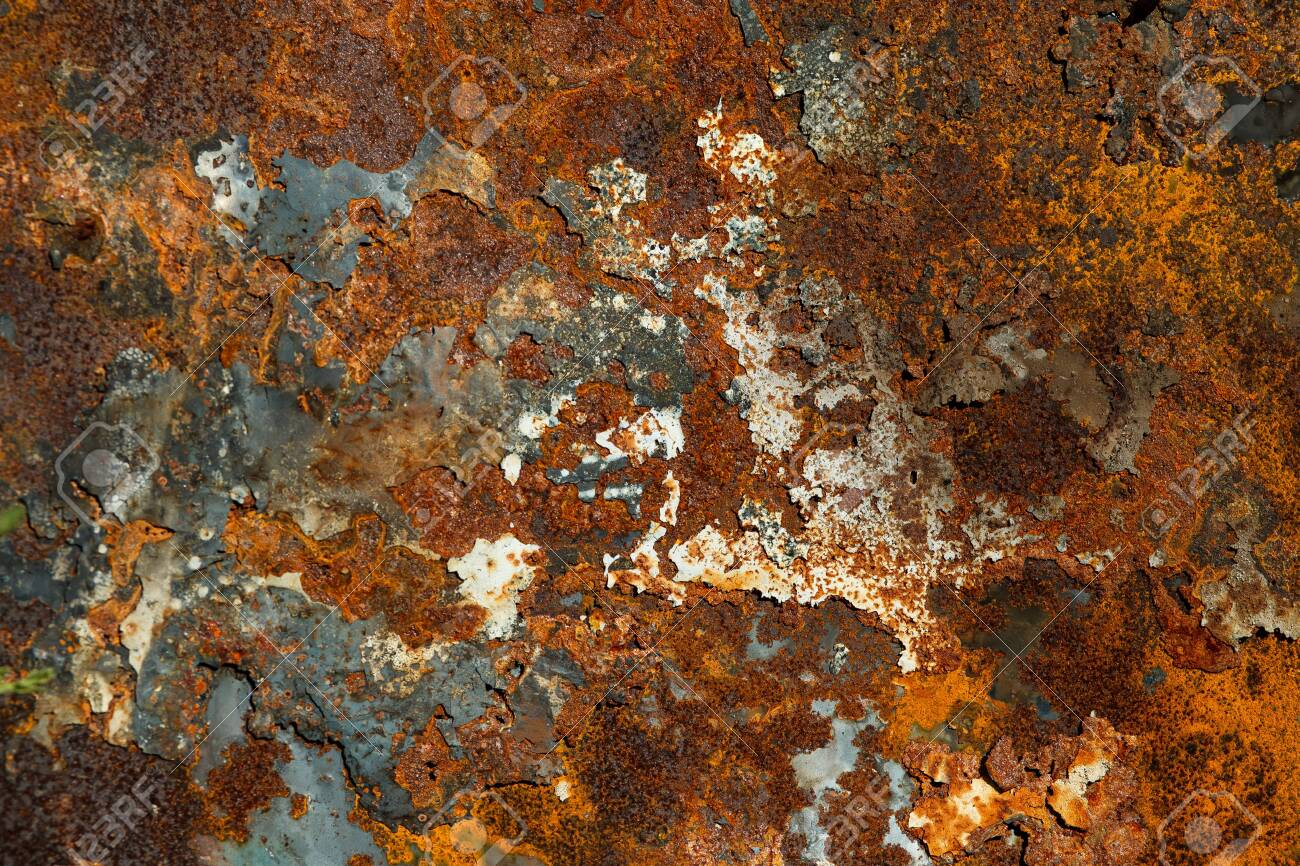rust: (5, 7, 1296, 866)
